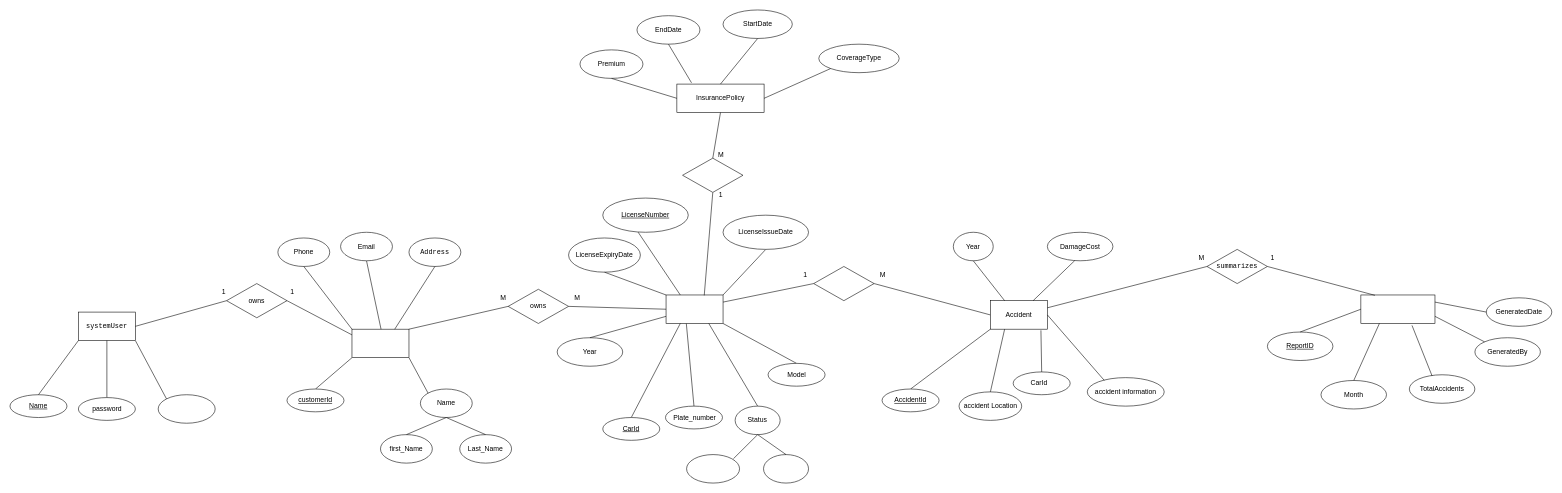
Some shapes in this 1562 by 493 pixel diagram are drawn without their labels. Each missing label, with the centre of its shape:
"Car" goes at point (694, 308).
"Costumer" goes at point (380, 343).
"form" goes at point (786, 468).
"insurance_type" goes at point (713, 468).
"insures" goes at point (712, 175).
"Involved" goes at point (843, 283).
"monthly reports for the total accidents" goes at point (1397, 308).
"Role" goes at point (186, 408).
